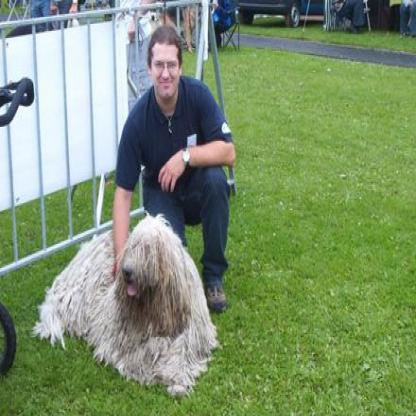komondor: (30, 210, 220, 398)
